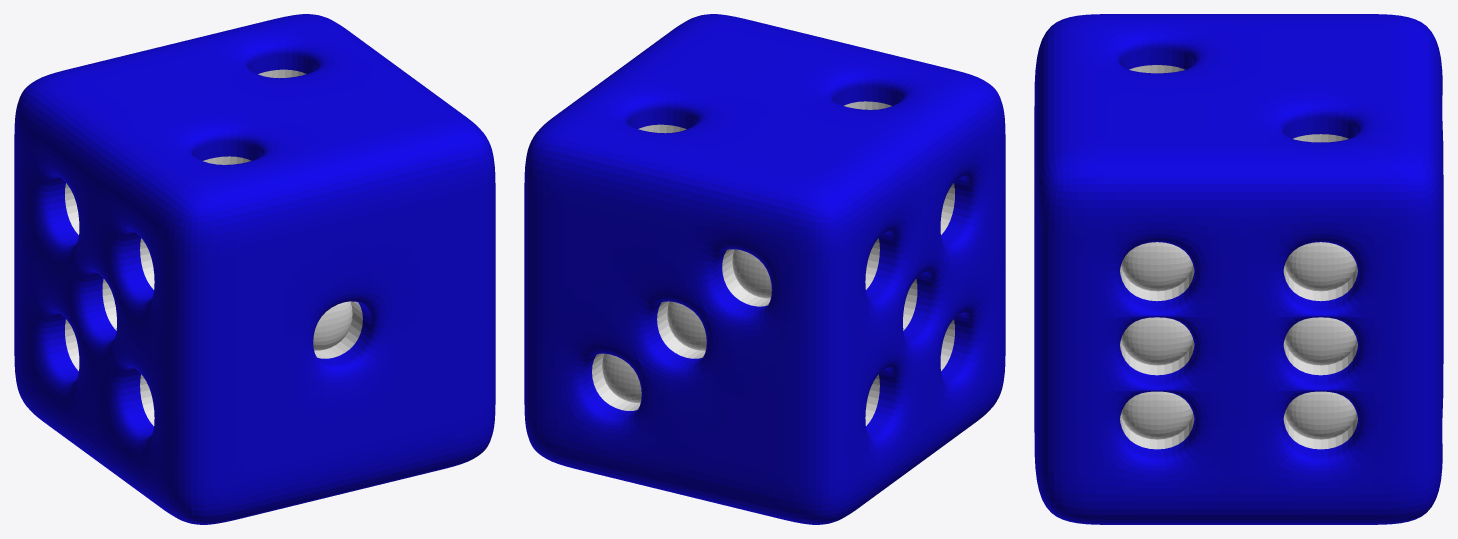
The model's file is DICE.fbx.
3 renders of one model, left to right at view 1: azimuth 30°, elevation 25°; view 2: azimuth 150°, elevation 25°; view 3: azimuth 270°, elevation 25°, orthographic. The views are drawn at different scales.
Parts seen in each view (by area): view 1: Cube; view 2: Cube; view 3: Cube.
Part boxes in pixels (x1,y1,x2,y2): Cube: (14,14,495,524); Cube: (524,14,1005,524); Cube: (1034,14,1443,524).
Size of the model in its own units: 200 by 200 by 200.
